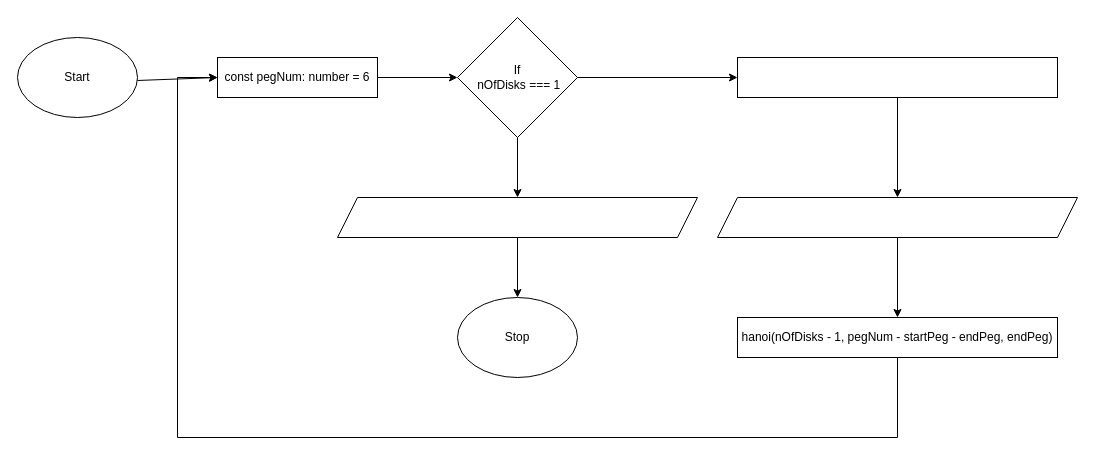
The diagram is 1095 pixels wide and 463 high, and some of its shapes have lost their labels. Here are the shapes that lost their labels. From the top down, the box of each, then its label:
(736, 56, 1058, 98): hanoi(nOfDisks - 1, startPeg, pegNum - startPeg - endPeg)
(336, 196, 698, 238): Print(Move disk 1 from peg startPeg to peg endPeg )
(716, 196, 1078, 238): Print(Move disk nOfDisks from peg startPeg to peg endPeg )
